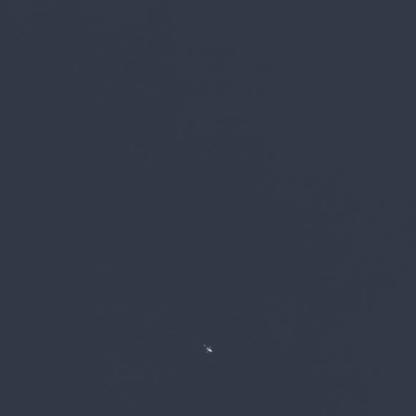ship: (35, 342, 47, 355)
